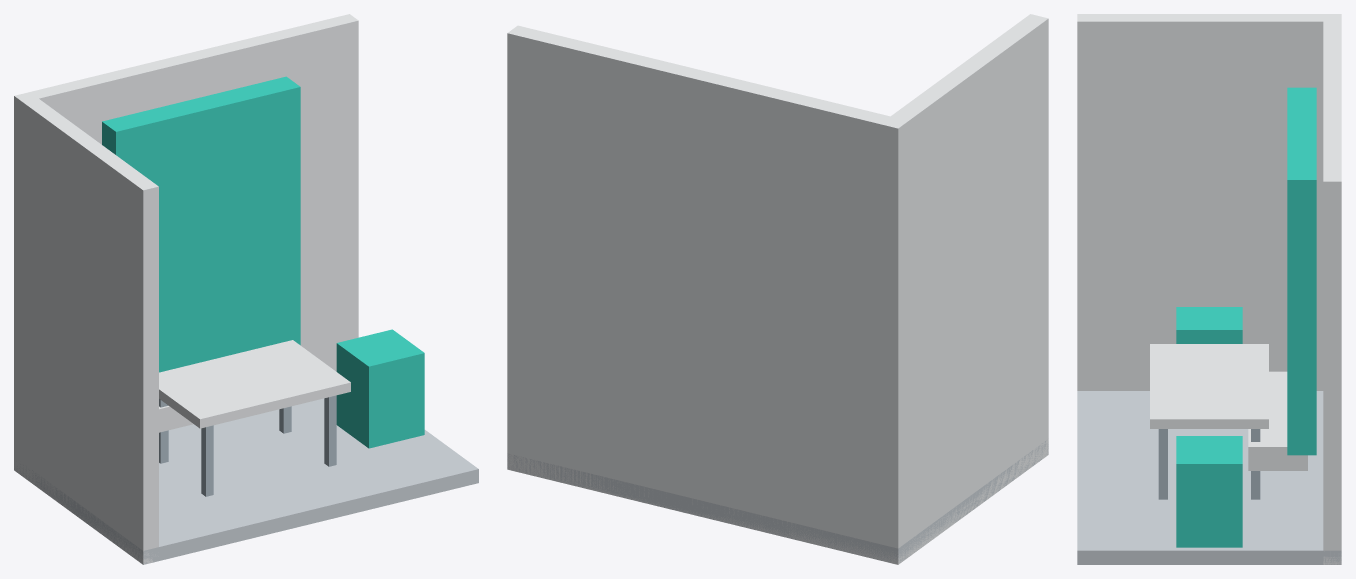
3 renders of one model, left to right at view 1: azimuth 30°, elevation 25°; view 2: azimuth 150°, elevation 25°; view 3: azimuth 270°, elevation 25°, orthographic. The views are drawn at different scales.
Visible parts, largest first — view 1: Exhibition Booth Concept; view 2: Exhibition Booth Concept; view 3: Exhibition Booth Concept.
Boxes of the visible parts, x1,y1,x2,y2 form: Exhibition Booth Concept: (14, 14, 478, 564); Exhibition Booth Concept: (507, 14, 1048, 564); Exhibition Booth Concept: (1077, 14, 1341, 564).
Bounding box in the file's own units: 3 × 3.2 × 2.
